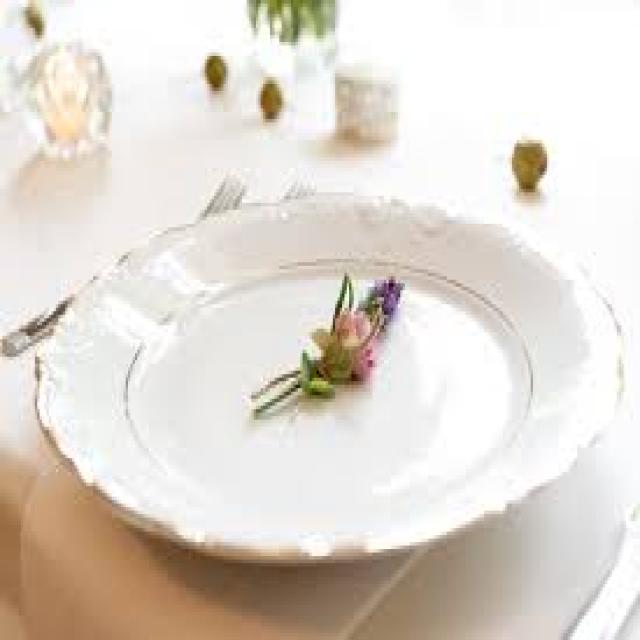Plate: (35, 191, 611, 577)
